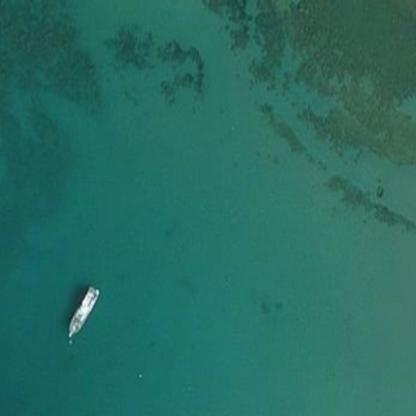ship: (65, 291, 101, 334)
